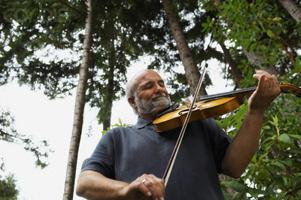person: (77, 69, 281, 199)
